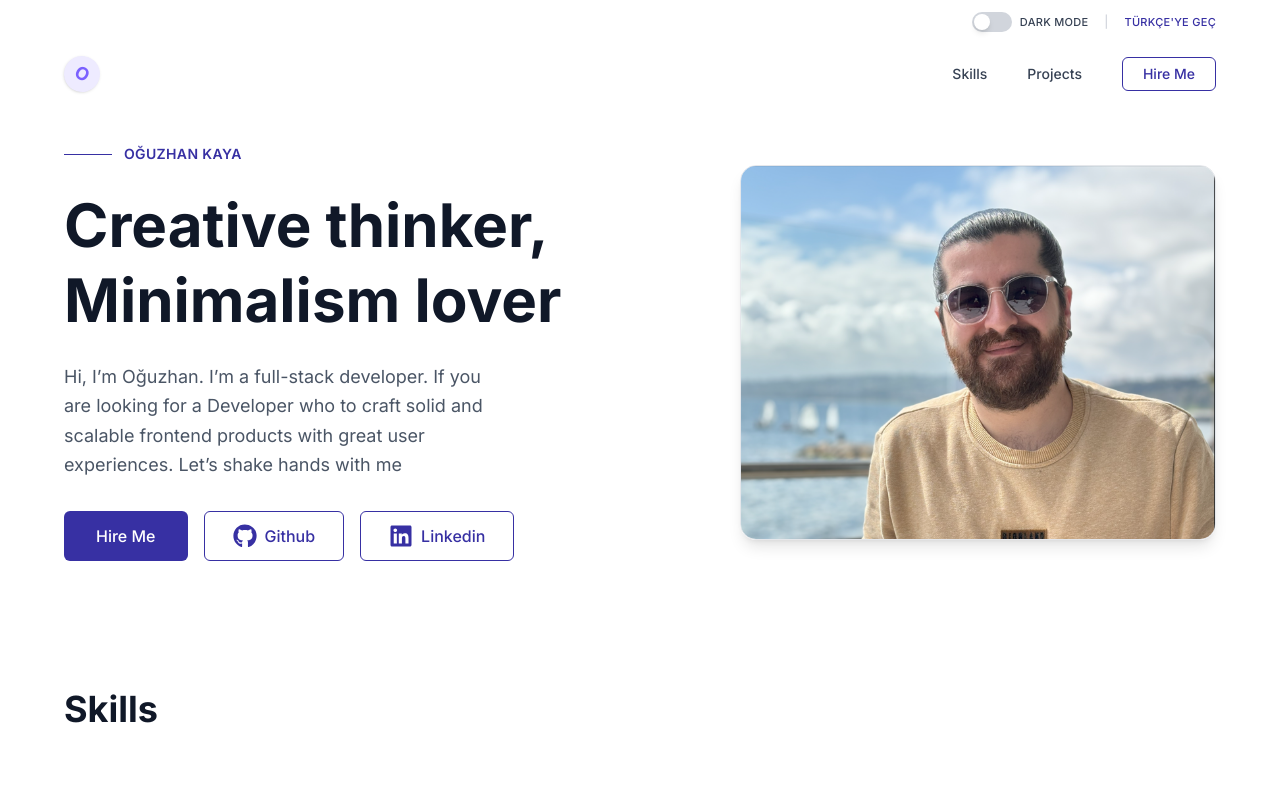
Test: Portfolio E2E Tests › should toggle language between English and Turkish
expect the link "Skills" is shown: met, box [952,64,987,84]
expect the link "Projects" is shown: met, box [1027,64,1082,84]
Note: Switch to Turkish
Click the button "TÜRKÇE'YE GEÇ": point(1171, 23) [1125,15,1217,30]
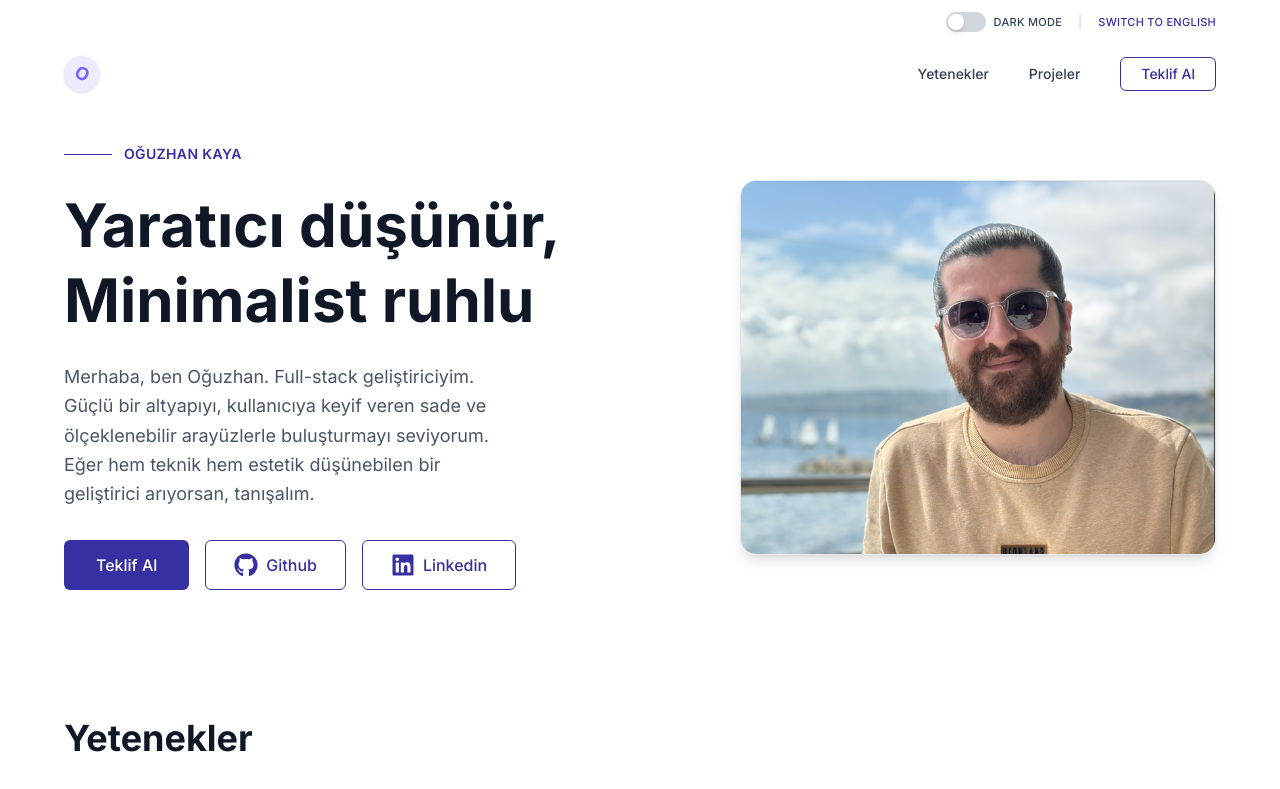
expect the link "Yetenekler" is shown: met, box [918,64,989,84]
expect the link "Projeler" is shown: met, box [1029,64,1080,84]
expect the 1st button "Teklif Al" is shown: met, box [1120,57,1216,91]
Note: Switch back to English
Click the button "SWITCH TO ENGLISH": point(1157, 23) [1098,15,1216,30]
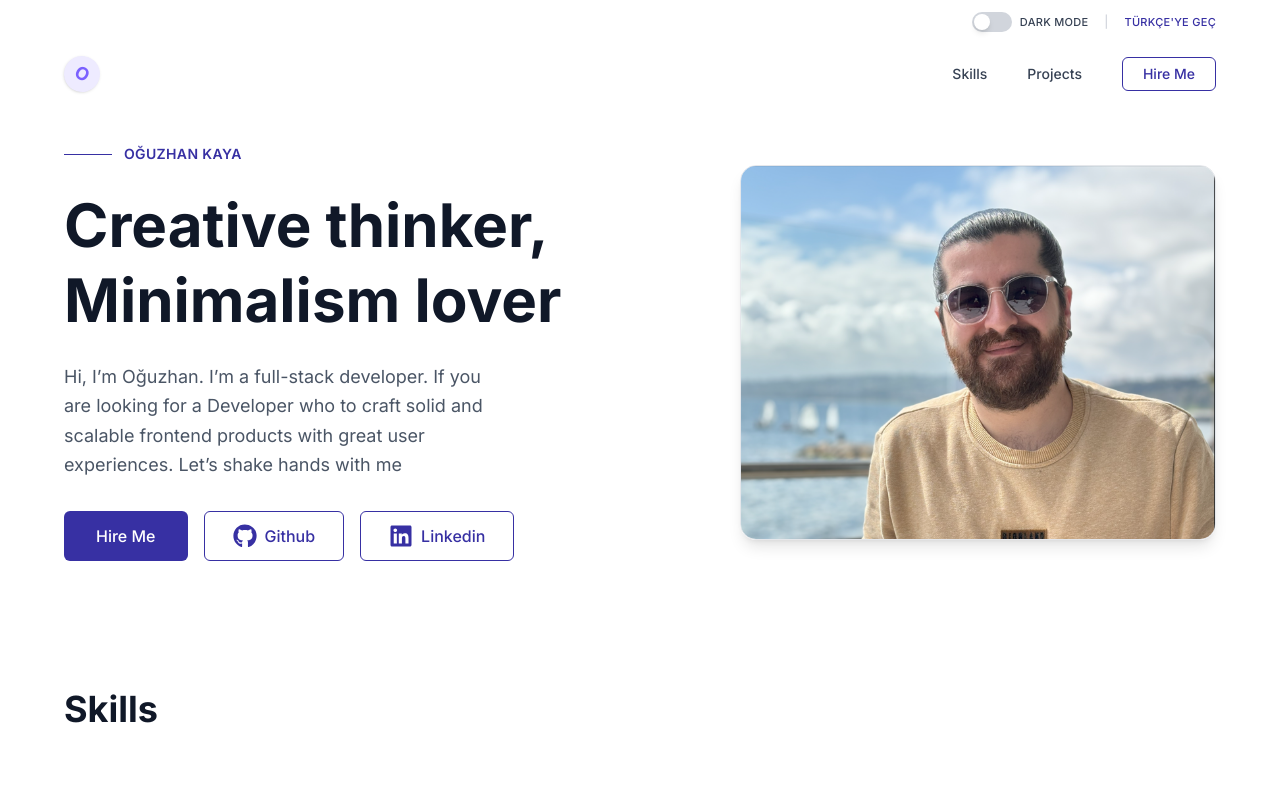
expect the link "Skills" is shown: met, box [952,64,987,84]
expect the 1st button "Hire Me" is shown: met, box [1122,57,1216,91]
